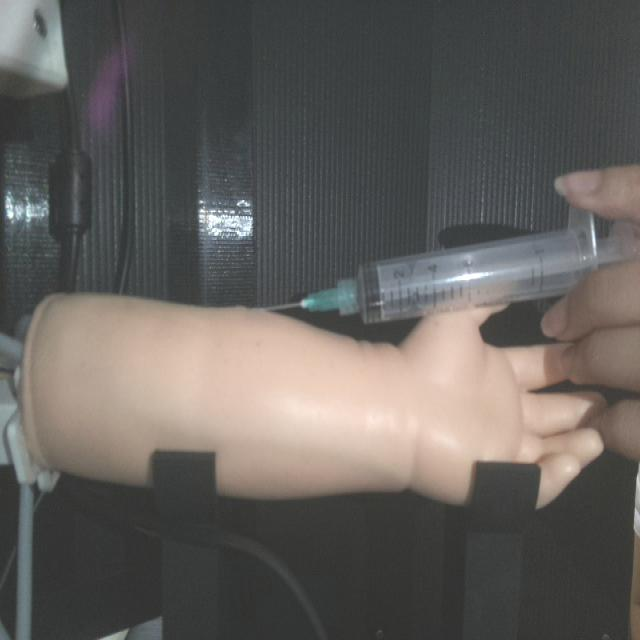Below 15 degrees: (260, 204, 637, 327)
